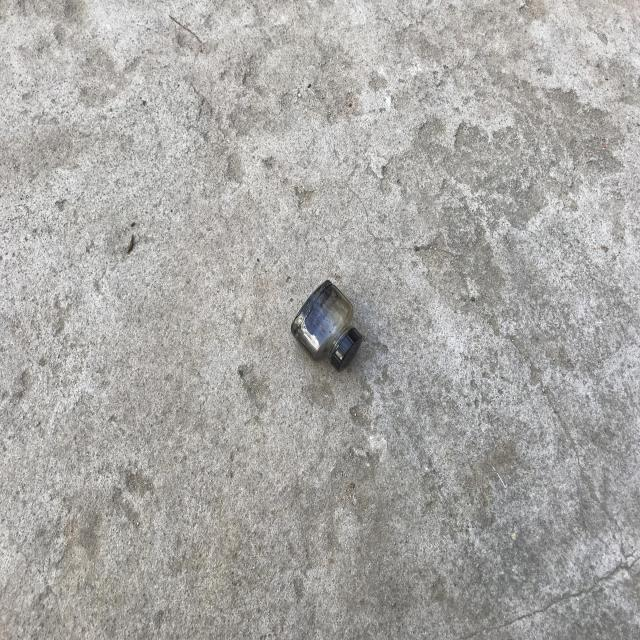glass: (291, 280, 363, 370)
